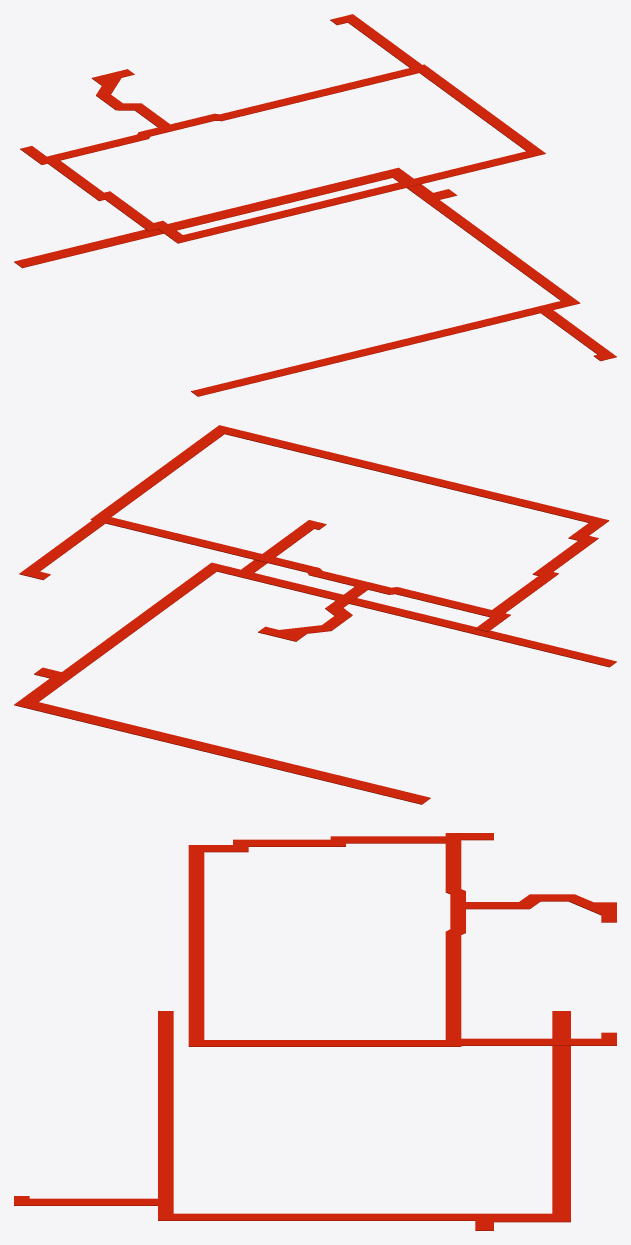
The model's file is S1_Safety_route.fbx.
The picture shows the model from 3 angles, top to bottom: view 1: azimuth 30°, elevation 25°; view 2: azimuth 150°, elevation 25°; view 3: azimuth 270°, elevation 25°; orthographic projection. The views are drawn at different scales.
Parts seen in each view (by area): view 1: S1_Safety_route; view 2: S1_Safety_route; view 3: S1_Safety_route.
Boxes of the visible parts, x1,y1,x2,y2 form: S1_Safety_route: (14, 14, 616, 396); S1_Safety_route: (14, 425, 616, 804); S1_Safety_route: (14, 833, 616, 1230).
Bounding box in the file's own units: 3564 × 1155 × 3870.
